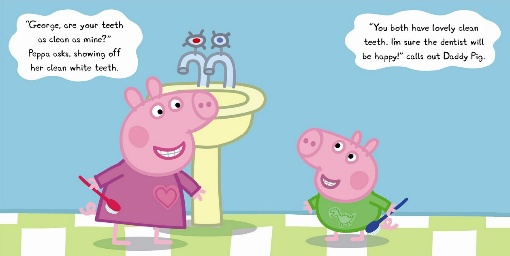Peppa: (79, 78, 218, 249)
